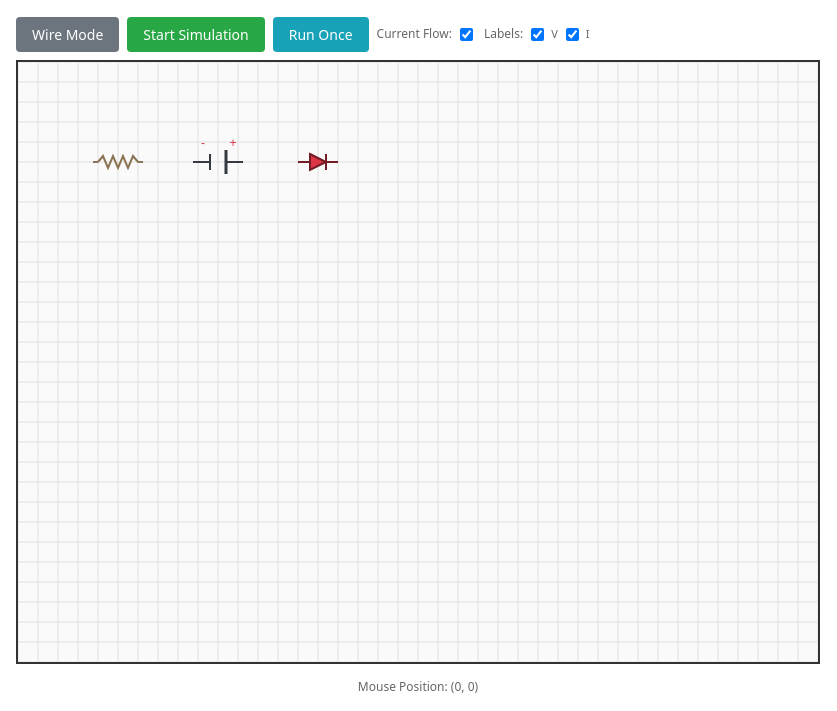
Test case: CircuitBoard Wire Connection Integration › should show wire mode status in mouse position display
Expected: the text "Wire Mode Active" is not shown
# Enter wire mode
What coordinates should you click on to do the following:
click the button with test id "wire-mode-toggle"
I would click on:
 (68, 34)
Its box is [16,16,119,52].
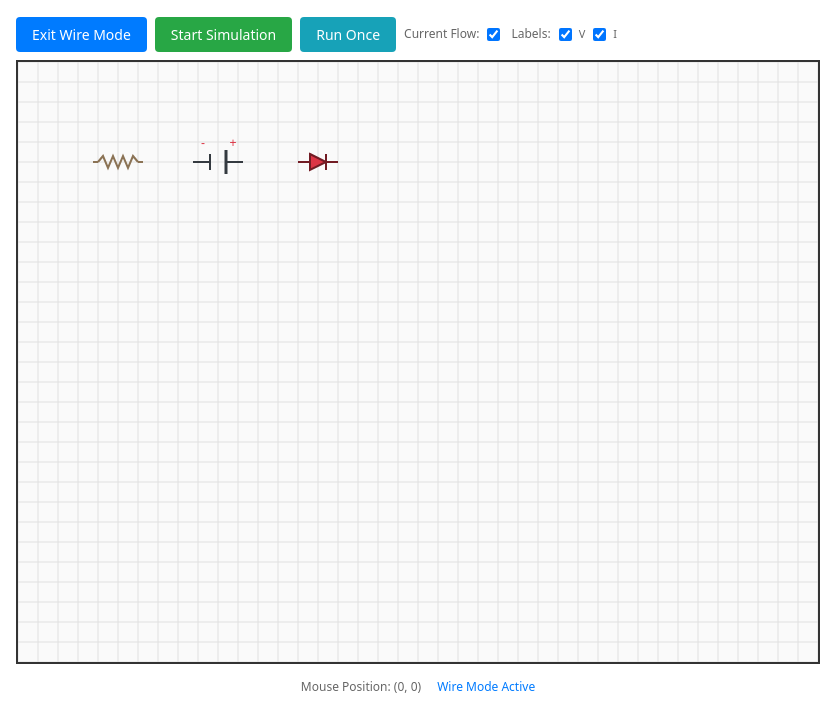
Result: the text "Wire Mode Active" is shown at [437,678,535,694]
# Exit wire mode
What coordinates should you click on to do the following:
click the button with test id "wire-mode-toggle"
I would click on:
 (81, 34)
Its box is [16,16,147,52].
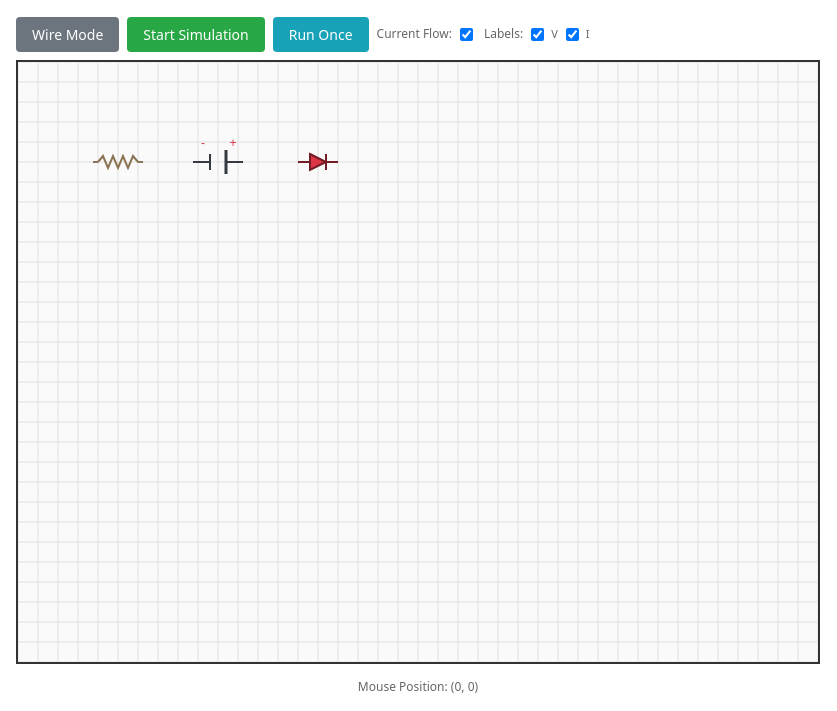
Result: the text "Wire Mode Active" is gone
